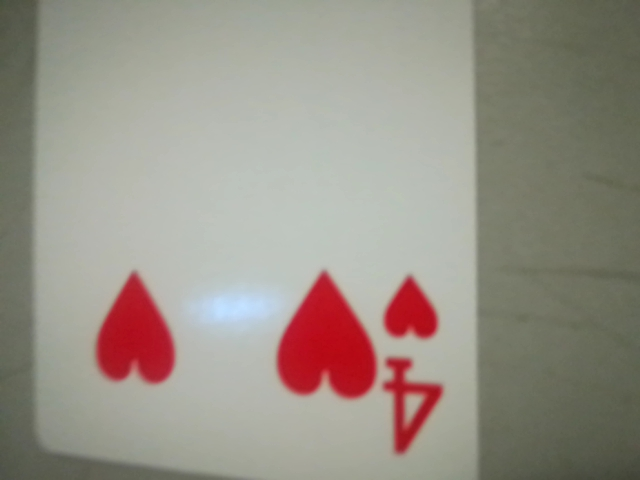hx 4: (366, 256, 465, 470)
